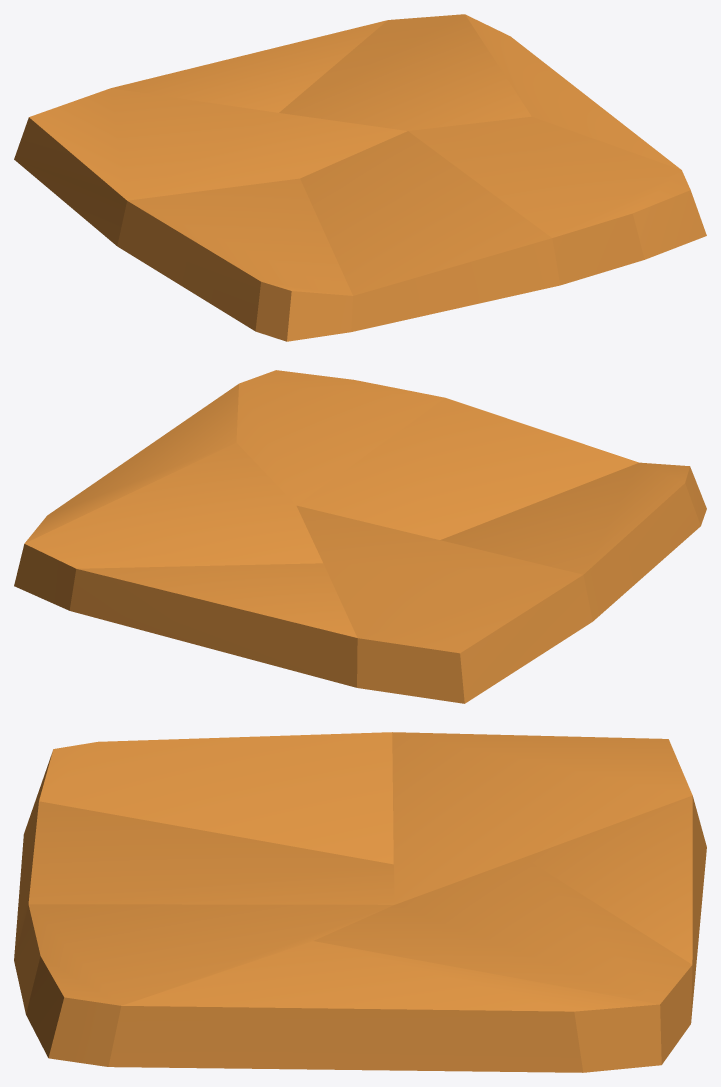
File: sand.fbx
3 views of the same model, one above another, from view 1: azimuth 30°, elevation 25°; view 2: azimuth 150°, elevation 25°; view 3: azimuth 270°, elevation 25° (orthographic). The views are drawn at different scales.
Parts seen in each view (by area): view 1: landscape; view 2: landscape; view 3: landscape.
Boxes of the visible parts, bbox=[...] form: landscape: bbox=[14, 14, 706, 341]; landscape: bbox=[14, 370, 706, 703]; landscape: bbox=[14, 732, 706, 1072].
Size of the model in its own units: 2251 by 270 by 2259.
